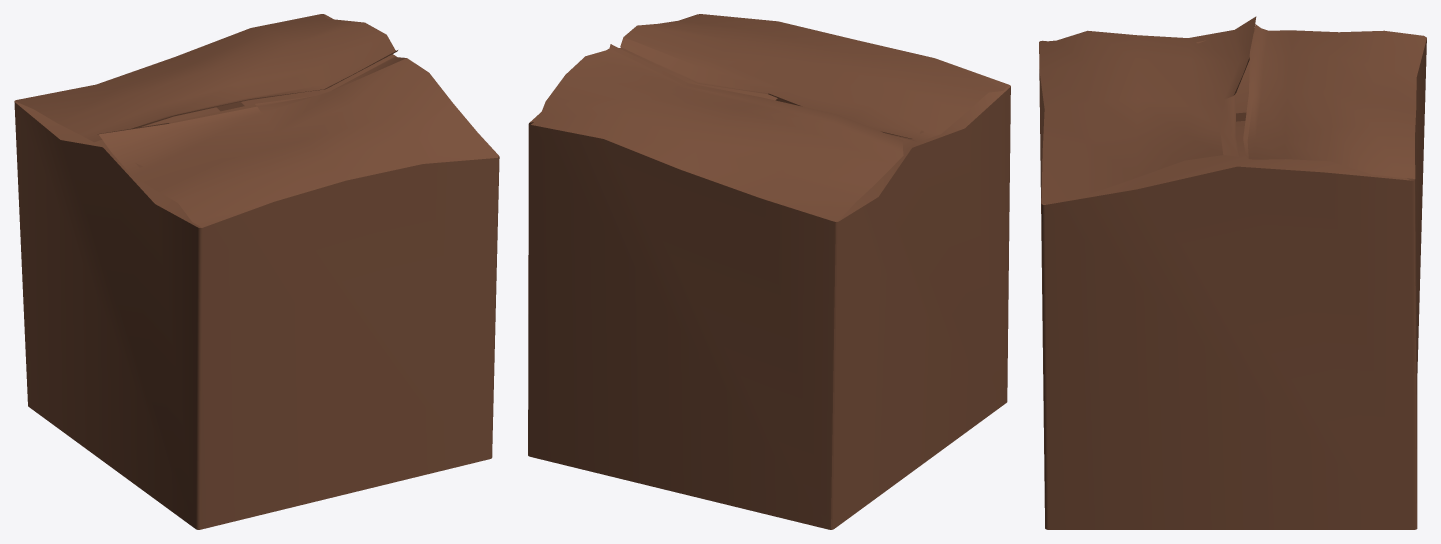
The model's file is CardboardBox_3.fbx.
3 views of the same model, side by side, from view 1: azimuth 30°, elevation 25°; view 2: azimuth 150°, elevation 25°; view 3: azimuth 270°, elevation 25° (orthographic). The views are drawn at different scales.
Visible parts, largest first — view 1: Cube.003; view 2: Cube.003; view 3: Cube.003.
Part boxes in pixels (x1,y1,x2,y2): Cube.003: [14, 14, 499, 529]; Cube.003: [528, 14, 1010, 529]; Cube.003: [1039, 16, 1426, 529].
Size of the model in its own units: 61.06 by 64.25 by 60.57.
